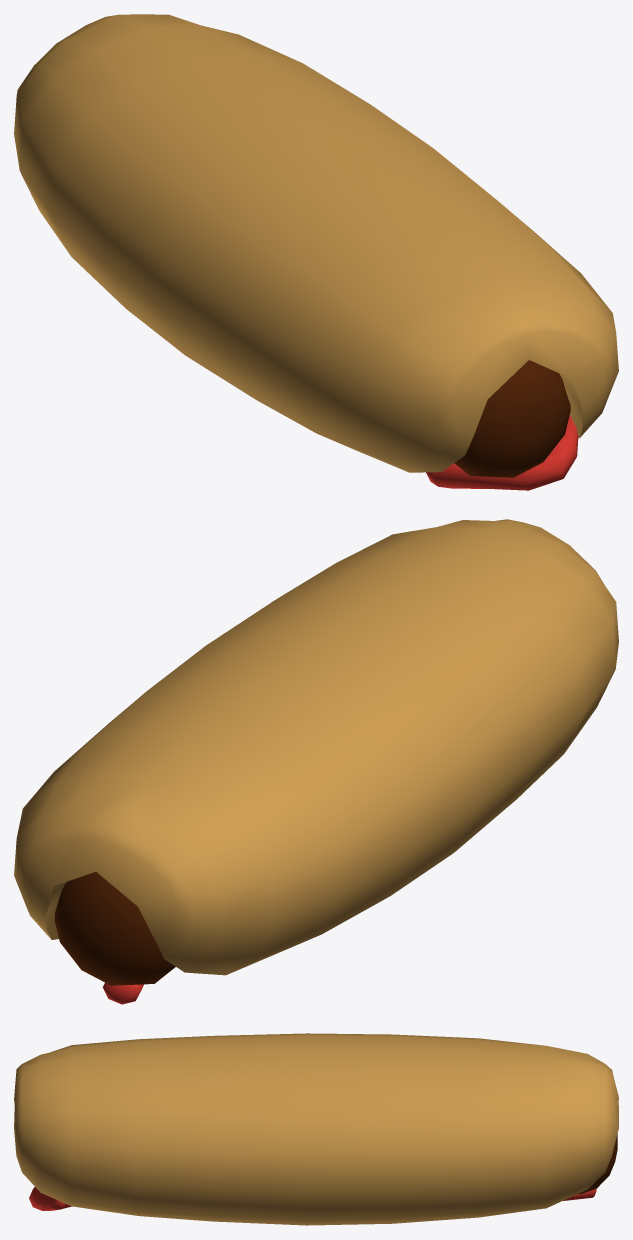
Rendered from HotdogFixed.fbx.
3 renders of one model, top to bottom at view 1: azimuth 30°, elevation 25°; view 2: azimuth 150°, elevation 25°; view 3: azimuth 270°, elevation 25°, orthographic. The views are drawn at different scales.
Parts seen in each view (by area): view 1: Hotdog; view 2: Hotdog; view 3: Hotdog.
Boxes of the visible parts, x1,y1,x2,y2 form: Hotdog: [14, 14, 618, 490]; Hotdog: [14, 519, 618, 1004]; Hotdog: [14, 1033, 618, 1225].
Bounding box in the file's own units: 2.1 × 1.46 × 5.05.
